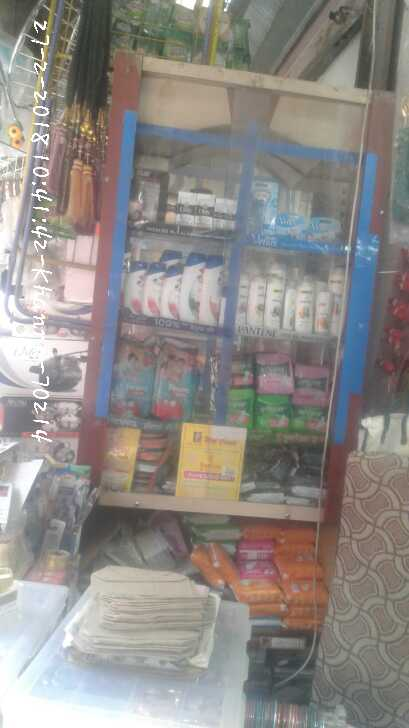venus: (251, 180, 276, 231), (278, 213, 306, 240), (306, 222, 341, 240)
